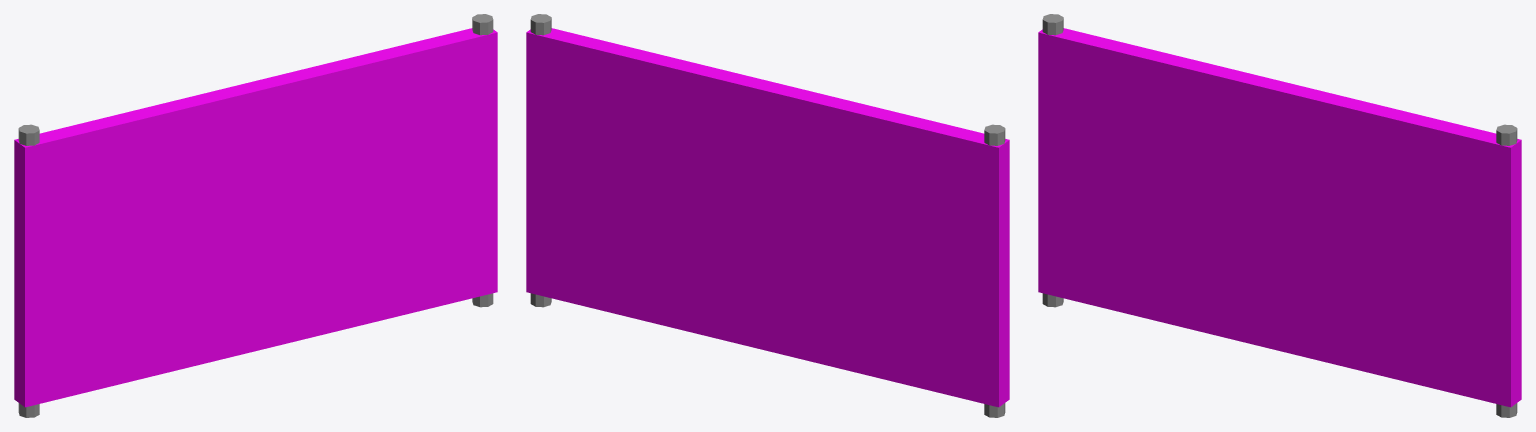
Rendered from snowfence_orange_2m.dae.
3 renders of one model, left to right at view 1: azimuth 30°, elevation 25°; view 2: azimuth 150°, elevation 25°; view 3: azimuth 330°, elevation 25°, orthographic.
Visible parts, largest first — view 1: Colmesh_panel-1, post_0, post_1; view 2: Colmesh_panel-1, post_0, post_1; view 3: Colmesh_panel-1, post_1, post_0.
Part boxes in pixels (<box>): Colmesh_panel-1: <box>14,28,497,407</box>; post_0: <box>18,124,39,417</box>; post_1: <box>472,14,493,307</box>; Colmesh_panel-1: <box>526,28,1009,407</box>; post_0: <box>984,124,1005,417</box>; post_1: <box>530,14,551,307</box>; Colmesh_panel-1: <box>1038,28,1521,407</box>; post_1: <box>1496,124,1517,417</box>; post_0: <box>1042,14,1063,307</box>.
Size of the model in its own units: 2 by 0.08 by 1.15.
